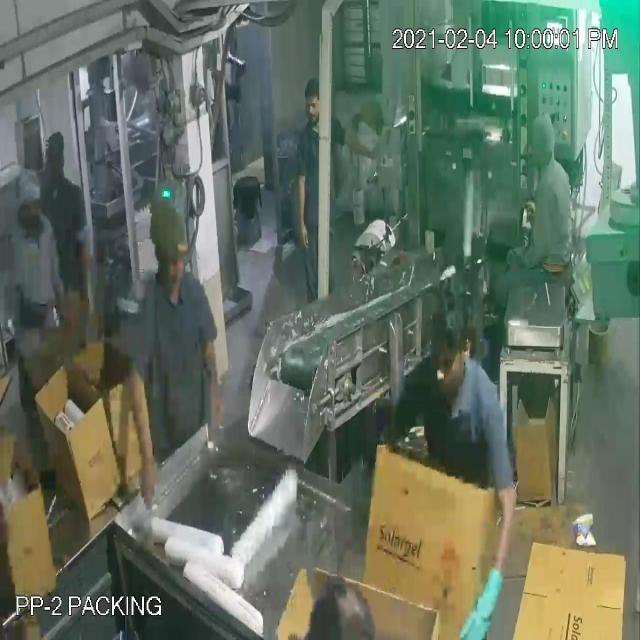No_Gloves: (22, 50, 480, 588)
